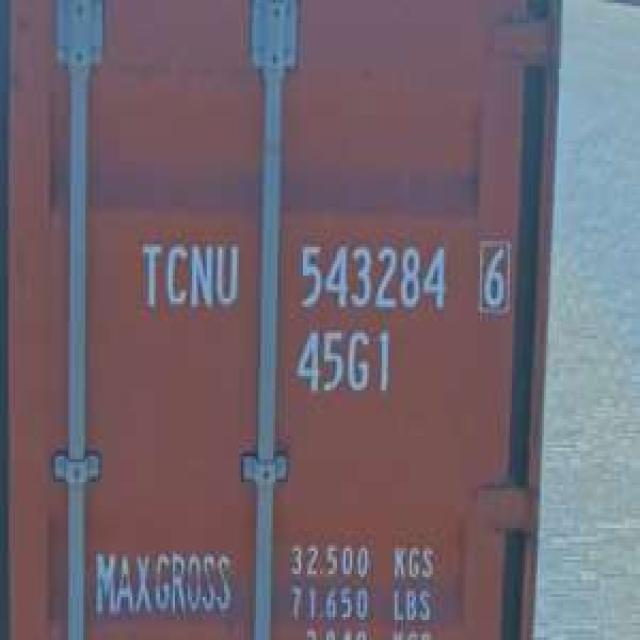dv: (472, 232, 514, 318)
owner: (132, 232, 243, 318)
serial: (290, 232, 452, 322)
size: (290, 321, 397, 402)
